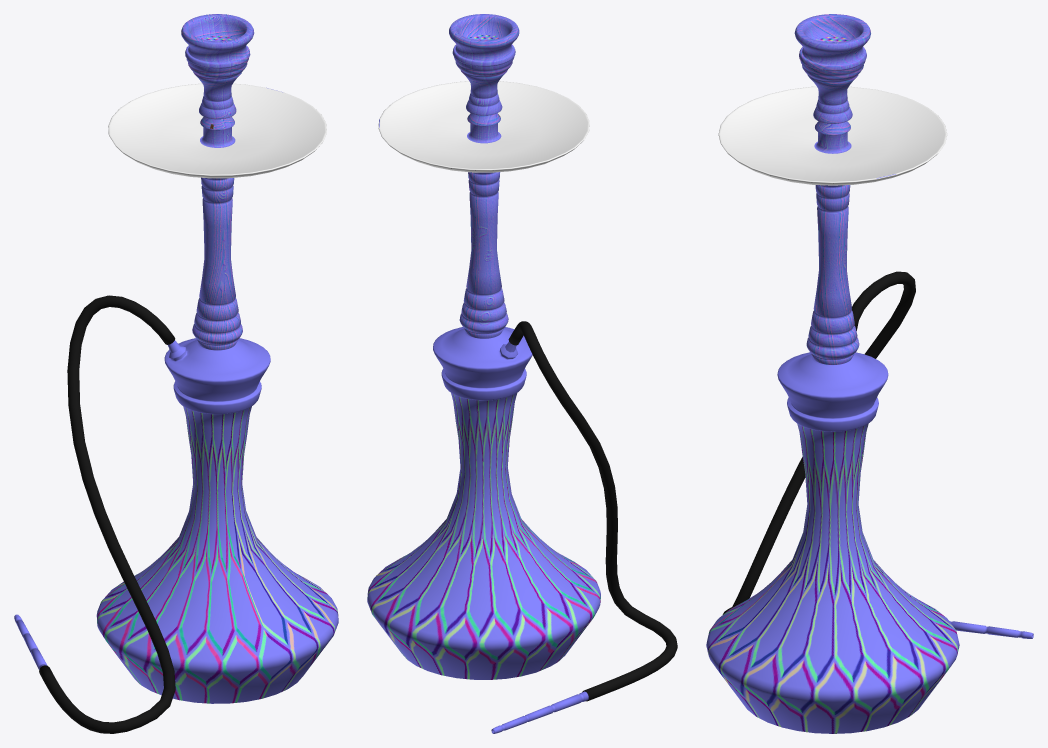
File: Hookah.obj
The picture shows the model from 3 angles, left to right: view 1: azimuth 30°, elevation 25°; view 2: azimuth 150°, elevation 25°; view 3: azimuth 270°, elevation 25°; orthographic projection. The views are drawn at different scales.
Visible parts, largest first — view 1: Hookah_Cylinder_002_Glass; view 2: Hookah_Cylinder_002_Glass; view 3: Hookah_Cylinder_002_Glass.
Boxes of the visible parts, x1=… form: Hookah_Cylinder_002_Glass: x1=14, y1=14, x2=338, y2=733; Hookah_Cylinder_002_Glass: x1=367, y1=14, x2=677, y2=733; Hookah_Cylinder_002_Glass: x1=706, y1=14, x2=1033, y2=733.
Bounding box in the file's own units: 0.3242 × 0.7321 × 0.3258.
3 materials, 3 textured.
